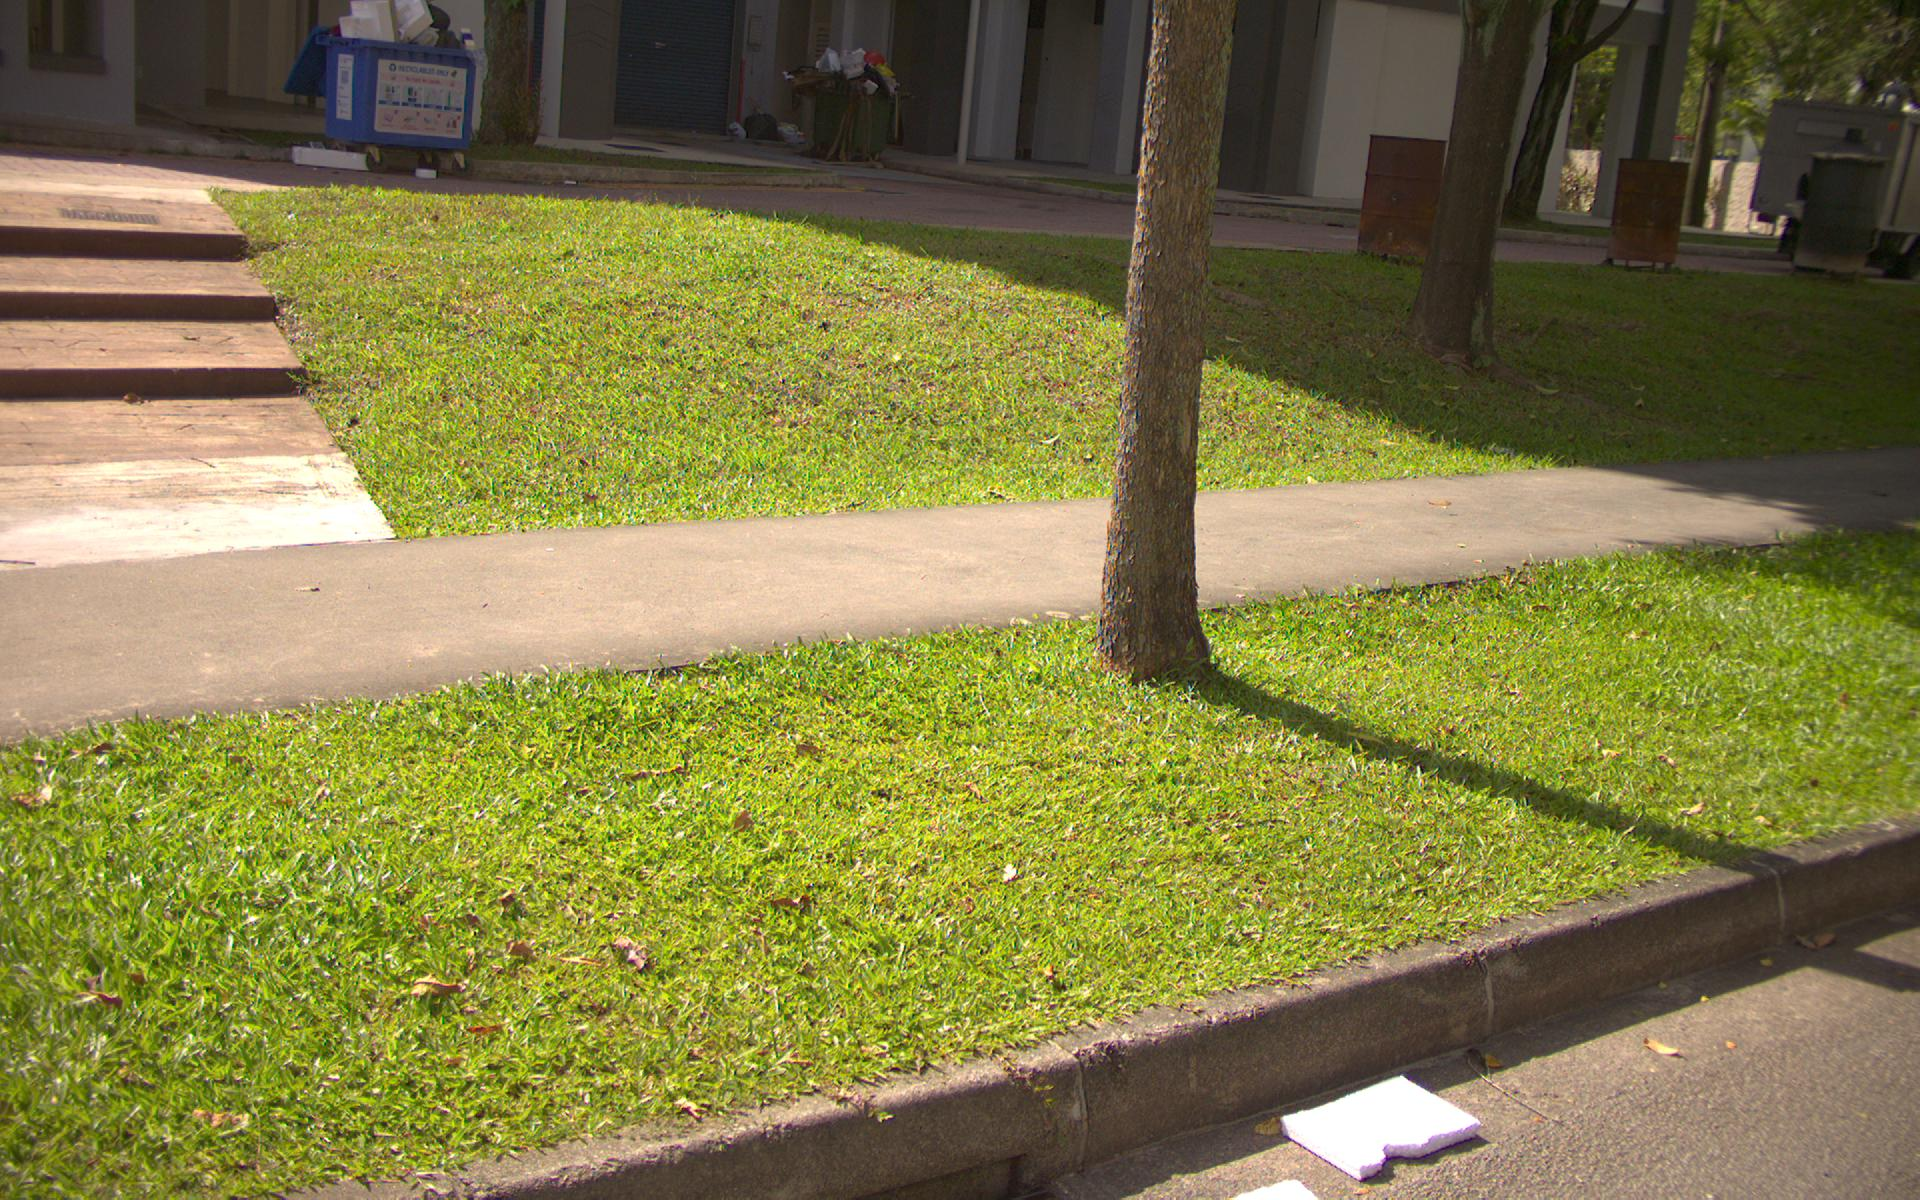road_curb_low: (1069, 917, 1905, 1183)
road_turf_low: (30, 525, 1908, 1179)
